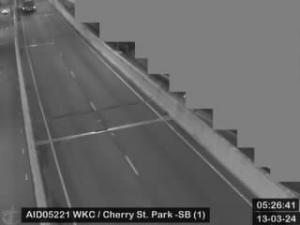bus: (23, 0, 38, 14)
